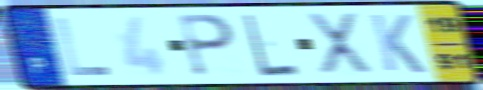4: (120, 13, 169, 79)
K: (367, 12, 428, 75)
L: (241, 12, 302, 79), (53, 16, 114, 78)
P: (176, 13, 237, 79)
X: (304, 10, 377, 77)
